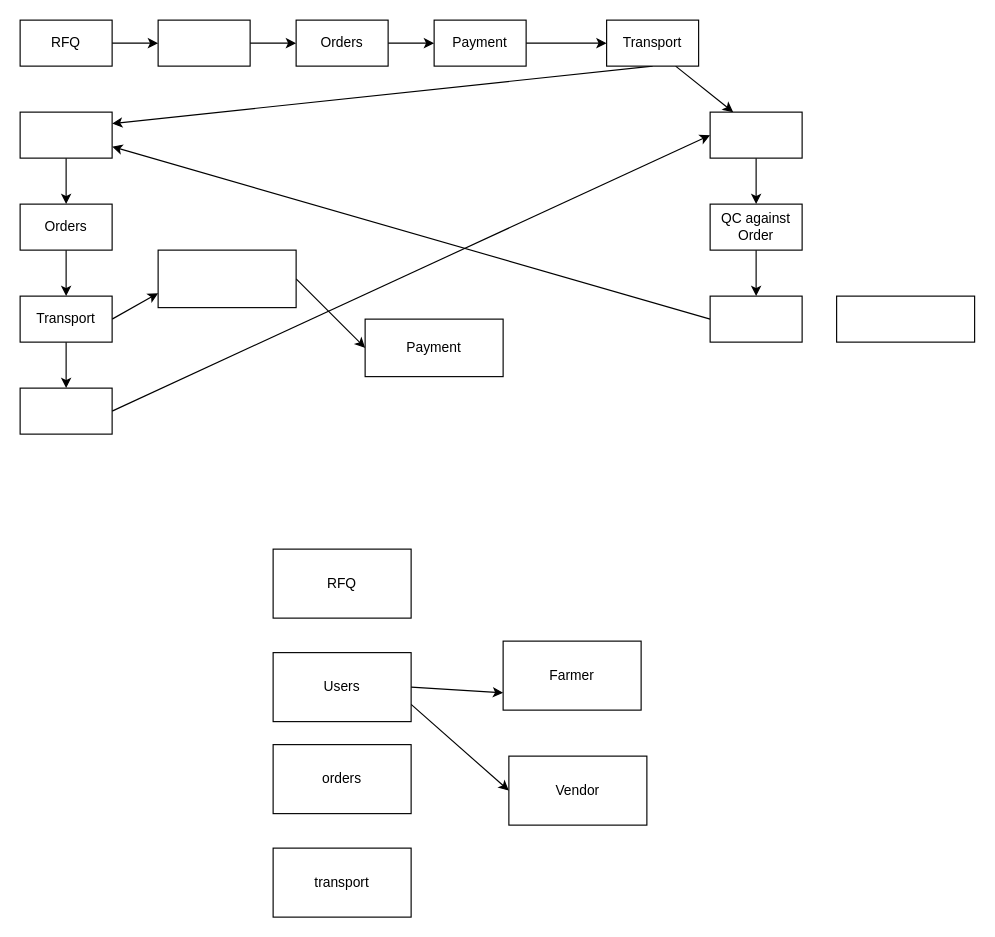
The diagram is 995 pixels wide and 937 high, and some of its shapes have lost their labels. The shapes that lost their labels are listed below. From the top down, each one's box as (x1, y1, x2, y2) in pixels, then its label:
(157, 19, 250, 66): Approved
(19, 111, 112, 158): Sales
(709, 111, 802, 158): Inventory
(157, 249, 296, 308): Create Bill
(709, 295, 802, 342): Stock
(835, 295, 975, 342): Wastage
(19, 387, 112, 434): Return Order
